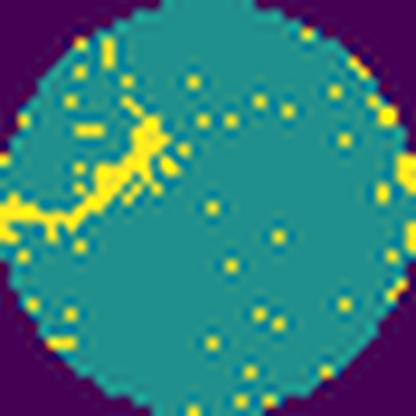Loc: (0, 117, 174, 243)
